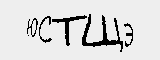С: (39, 15, 54, 45)
Т: (53, 14, 83, 49)
Щ: (83, 15, 124, 51)
Э: (122, 21, 135, 49)
Ю: (25, 18, 39, 39)
